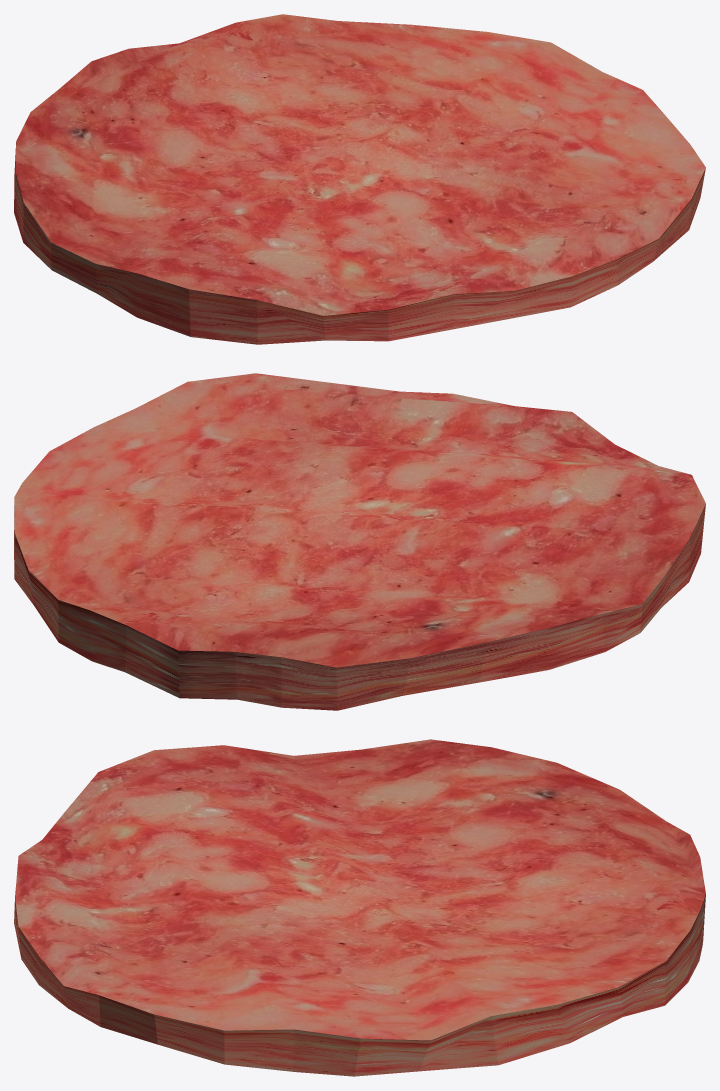
File: salami_2.glb
The picture shows the model from 3 angles, top to bottom: view 1: azimuth 30°, elevation 25°; view 2: azimuth 150°, elevation 25°; view 3: azimuth 270°, elevation 25°; orthographic projection. The views are drawn at different scales.
Visible parts, largest first — view 1: Cylinder; view 2: Cylinder; view 3: Cylinder.
Part boxes in pixels (bbox=[...]): Cylinder: bbox=[14, 14, 705, 344]; Cylinder: bbox=[14, 373, 705, 710]; Cylinder: bbox=[14, 739, 705, 1076].
Bounding box in the file's own units: 0.2289 × 0.023 × 0.2252.
Materials: 1 (1 with a texture image).
